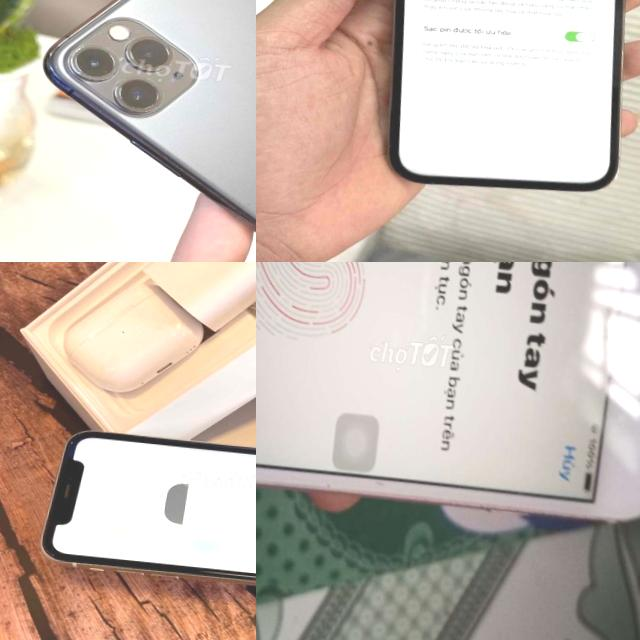gen_11: (14, 0, 256, 262), (42, 432, 256, 582)
gen_14: (357, 0, 640, 214)
gen_6: (256, 262, 640, 539)
scratch: (59, 37, 90, 81), (112, 50, 127, 66)
